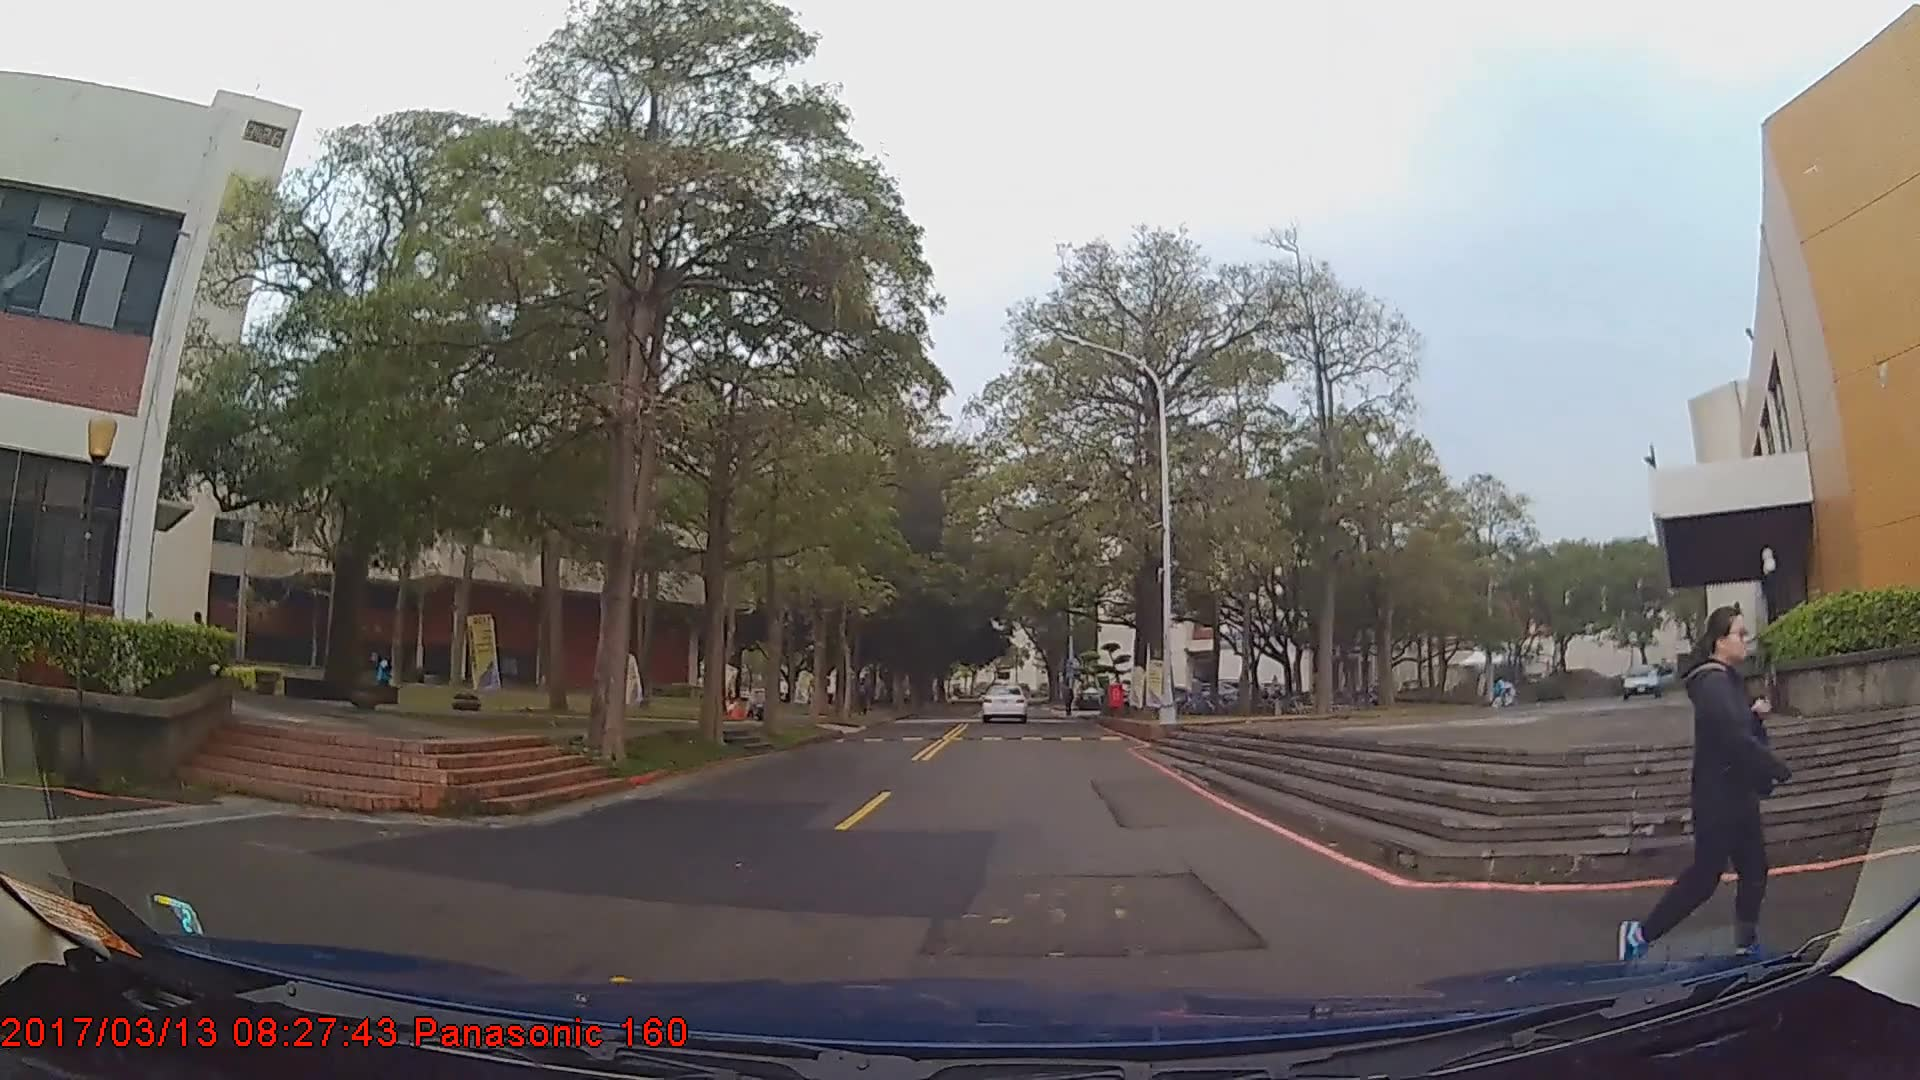pedestrian: (1616, 602, 1792, 984)
vehicle: (1617, 662, 1677, 700), (980, 679, 1028, 722)
